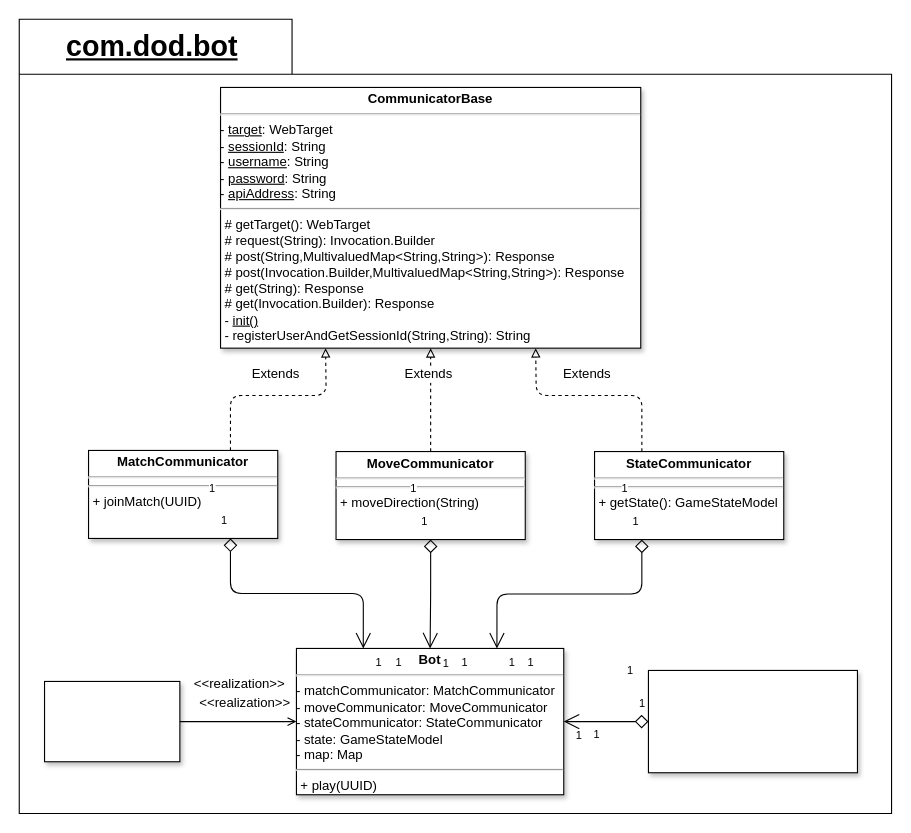
Some shapes in this 911 by 833 pixel diagram are drawn without their labels. The centre of each missing label's shape, as x and y in pixels:
Main + main(String[]): pixel 112 722
Map - map: ArrayList <List<TileModel>> + addTiles (TileModel[]) + getTile(Point): pixel 753 722
